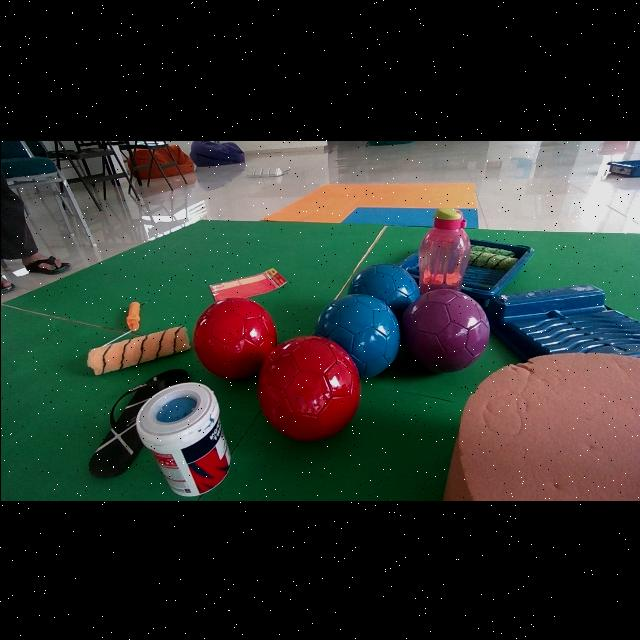B: (315, 293, 399, 376), (347, 263, 419, 316)
P: (400, 289, 489, 371)
R: (257, 335, 360, 441), (192, 296, 276, 378)
